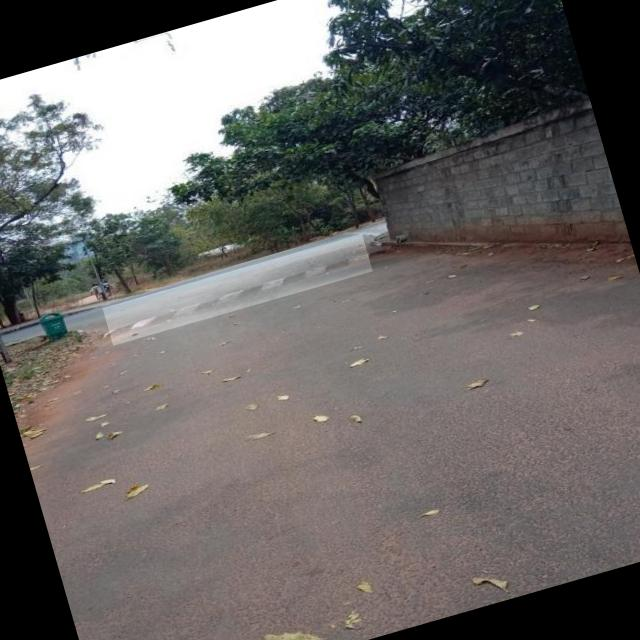bump: (102, 233, 372, 345)
